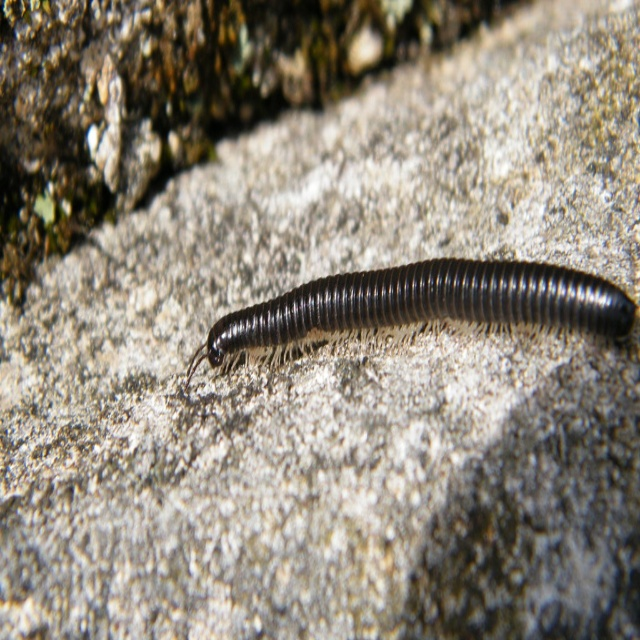Centipede: (183, 259, 638, 395)
